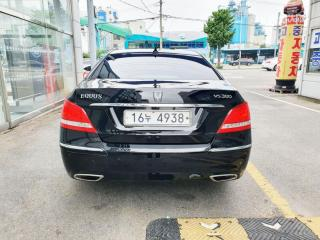1: (131, 111, 137, 123)
3: (171, 112, 178, 123)
4: (156, 112, 164, 123)
6: (137, 111, 145, 123)
8: (177, 113, 184, 123)
9: (163, 112, 170, 123)
plate: (119, 106, 197, 131)
누: (144, 113, 152, 123)
